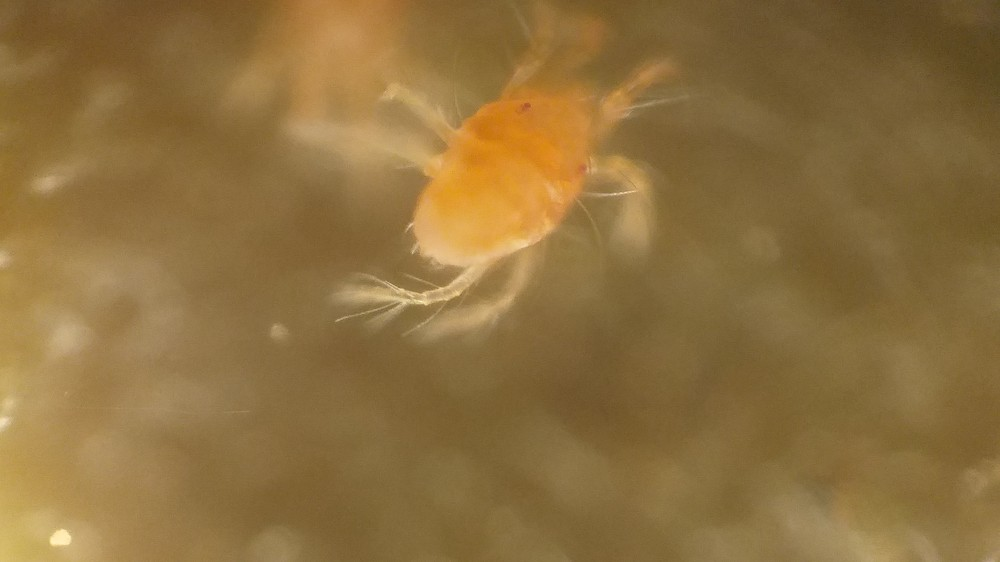Aracnido Rojo: (311, 23, 723, 352)
